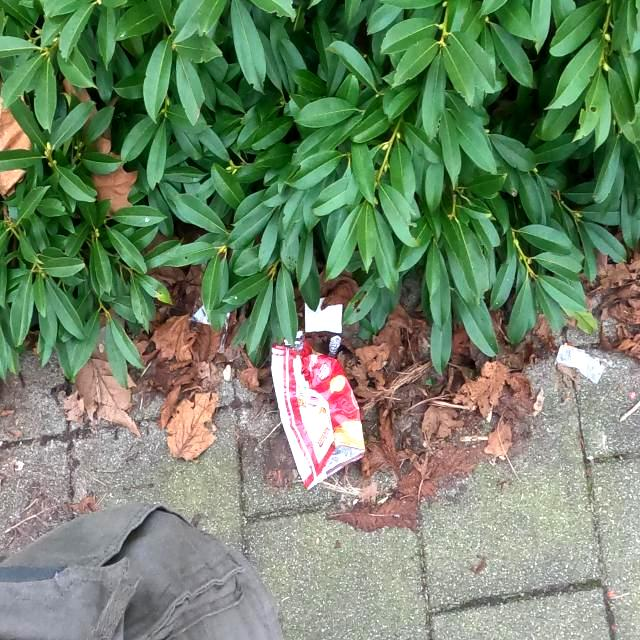Plastic: (270, 334, 366, 492), (304, 296, 342, 334)
